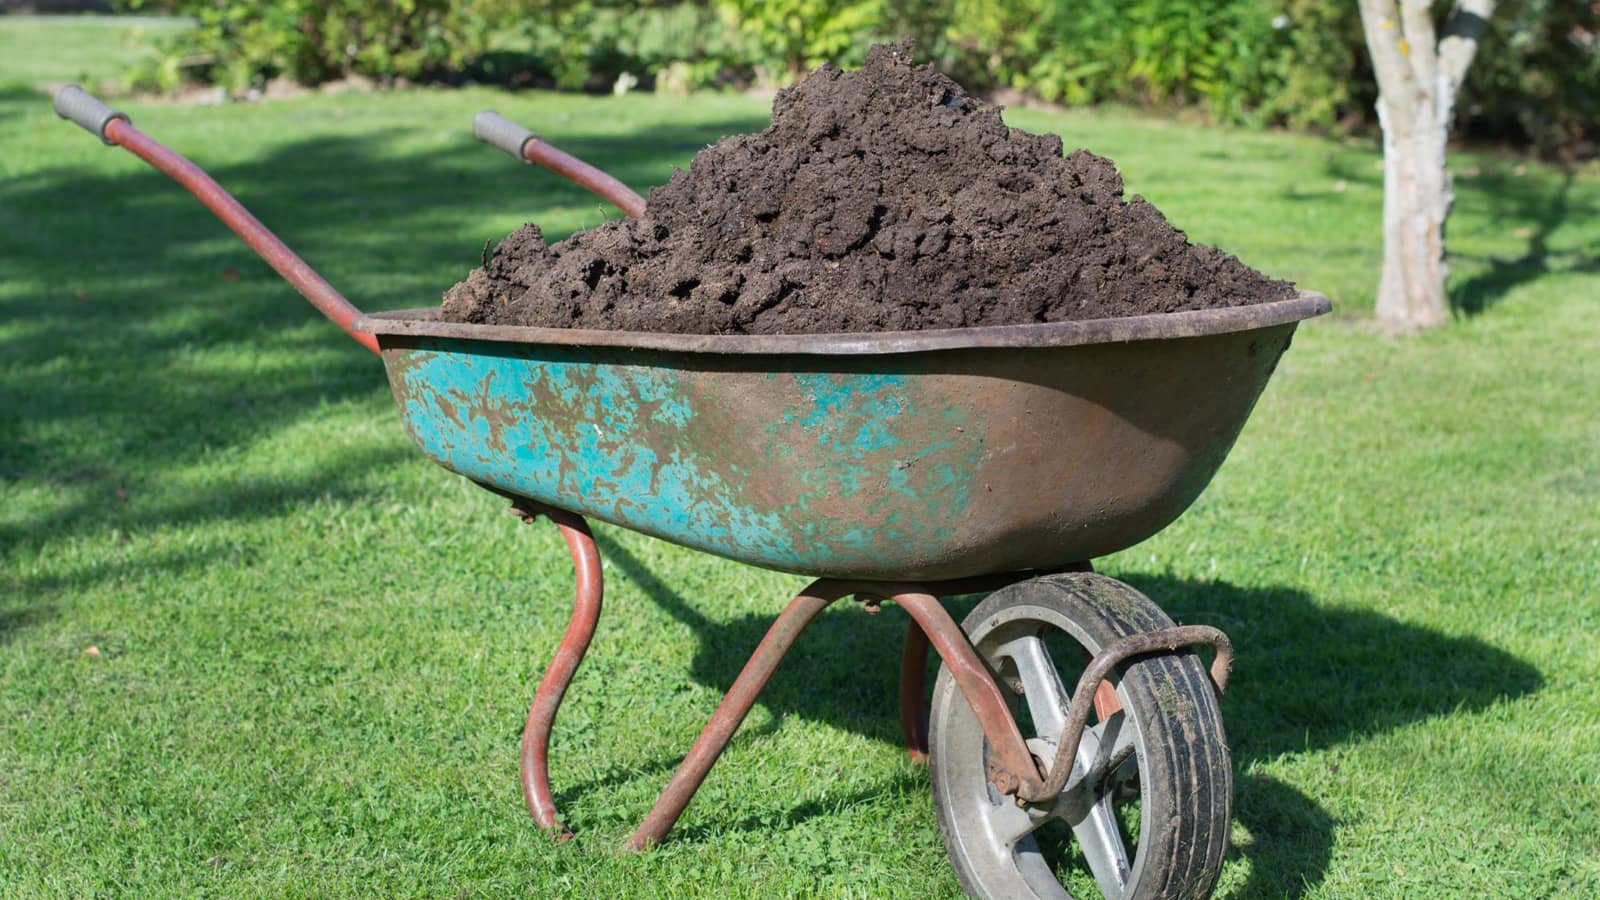dirt: (457, 43, 1240, 334)
grass: (0, 190, 491, 882), (1227, 335, 1596, 888)
tree: (1365, 10, 1463, 326)
